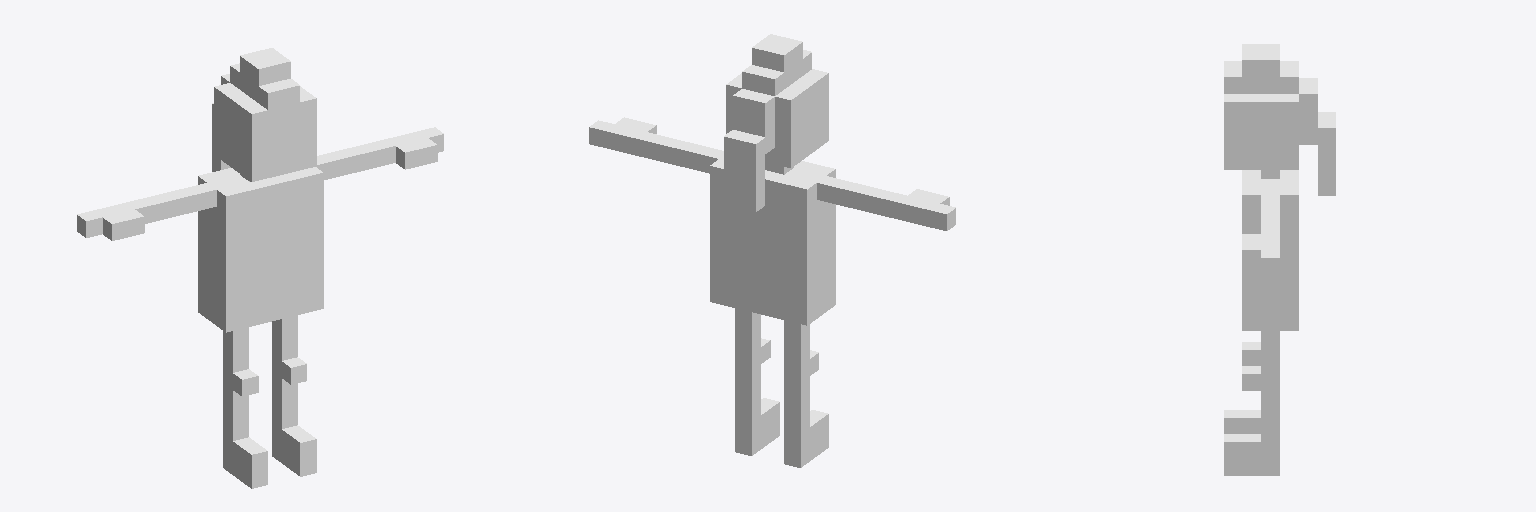
File: savage.obj
The picture shows the model from 3 angles: view 1: azimuth 30°, elevation 25°; view 2: azimuth 150°, elevation 25°; view 3: azimuth 270°, elevation 25°; orthographic projection.
Parts seen in each view (by area): view 1: object 1; view 2: object 1; view 3: object 1.
Boxes of the visible parts, x1,y1,x2,y2 form: object 1: [77, 48, 443, 488]; object 1: [589, 34, 955, 467]; object 1: [1224, 44, 1335, 475].
Bounding box in the file's own units: 2.2 × 2.4 × 0.6.